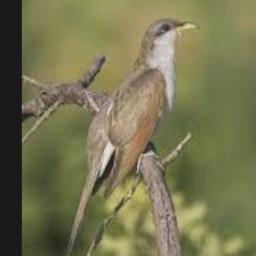Cuckoo: (64, 17, 199, 256)
